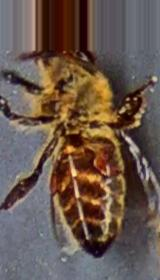varroa_mite: (90, 146, 126, 186)
